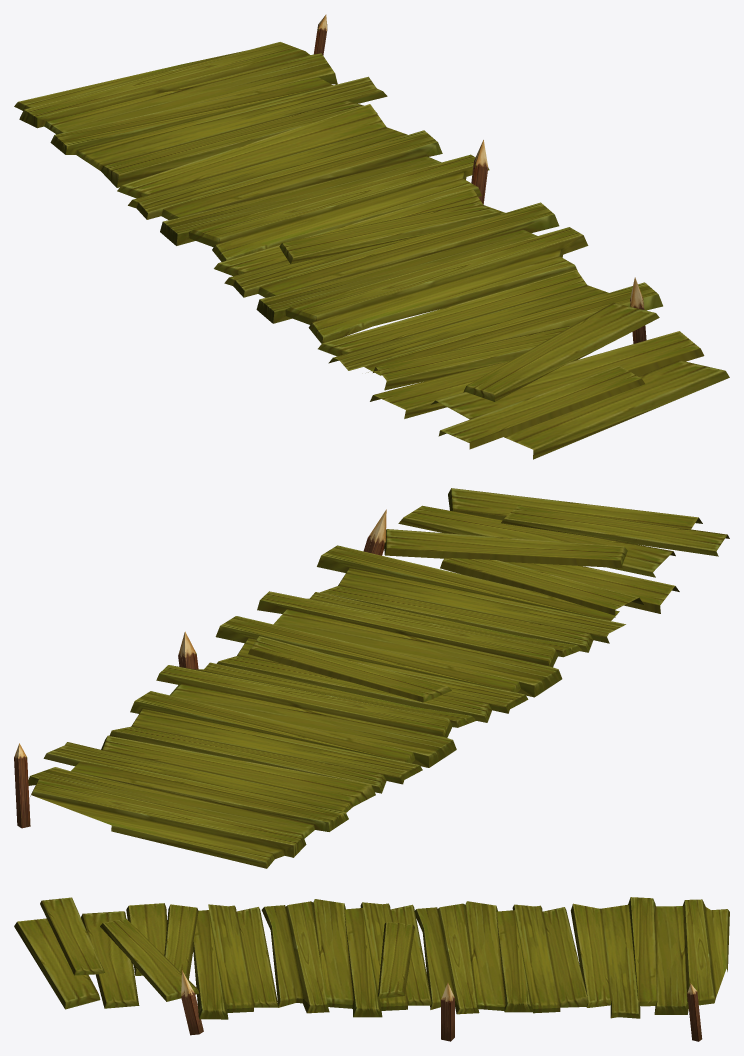
File: Cunluo_qiaomian02.FBX
3 views of the same model, one above another, from view 1: azimuth 30°, elevation 25°; view 2: azimuth 150°, elevation 25°; view 3: azimuth 270°, elevation 25° (orthographic). The views are drawn at different scales.
Parts seen in each view (by area): view 1: Cunluo_qiaomian02; view 2: Cunluo_qiaomian02; view 3: Cunluo_qiaomian02.
Boxes of the visible parts, bbox=[...] form: Cunluo_qiaomian02: bbox=[14, 14, 729, 459]; Cunluo_qiaomian02: bbox=[14, 488, 729, 868]; Cunluo_qiaomian02: bbox=[14, 897, 729, 1041].
Size of the model in its own units: 511 by 128 by 1338.
